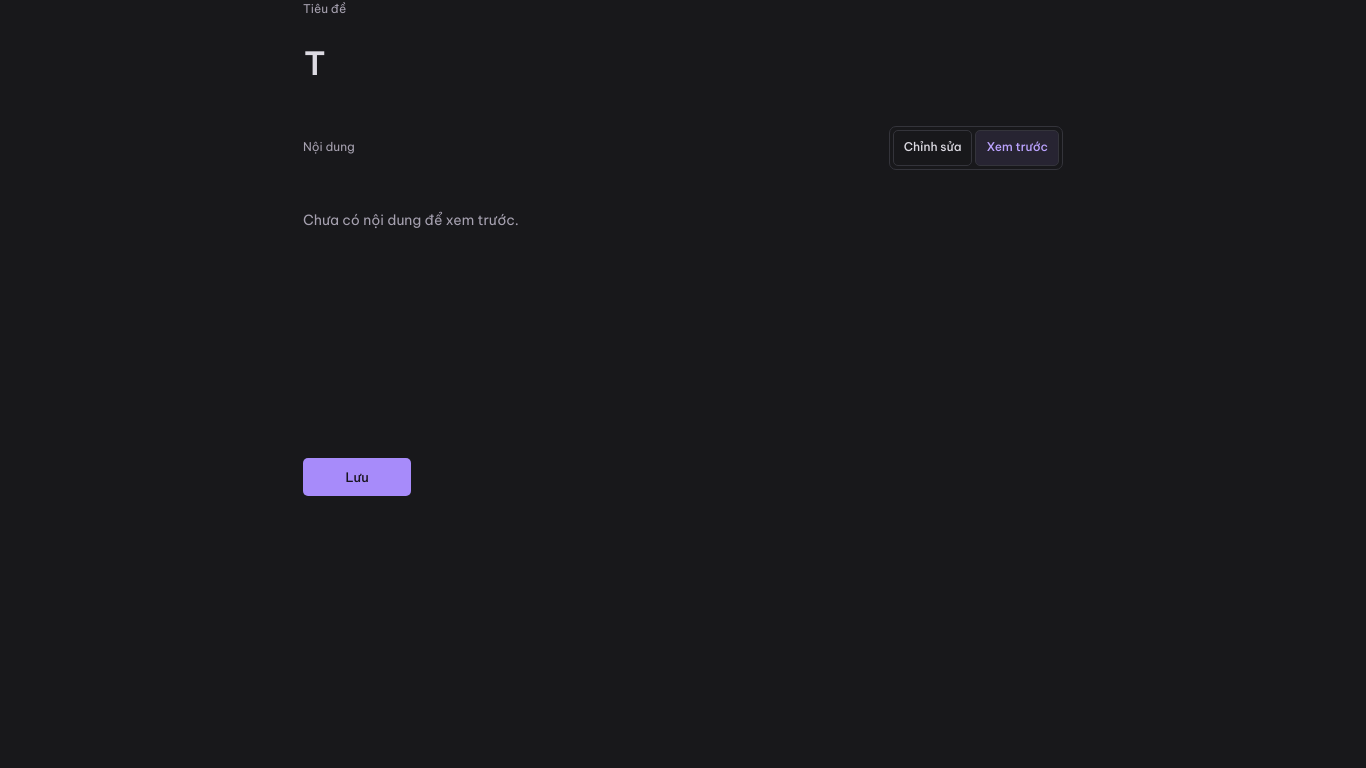
Test: shows a popup after a successful save
Click the button "Lưu" at (357, 477), box top-left (303, 458), bottom-right (411, 496)
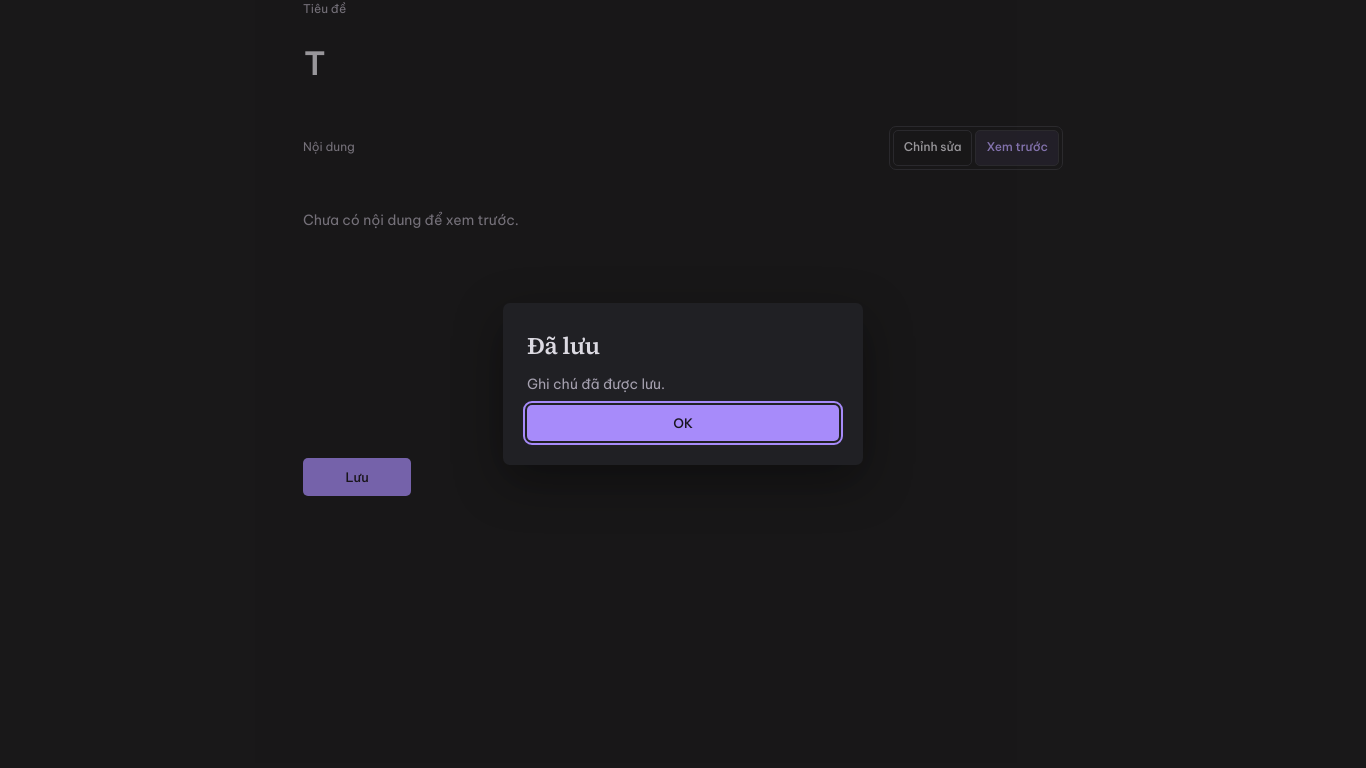
Result: the dialog "Đã lưu" is shown at top-left (503, 303), bottom-right (863, 466)
